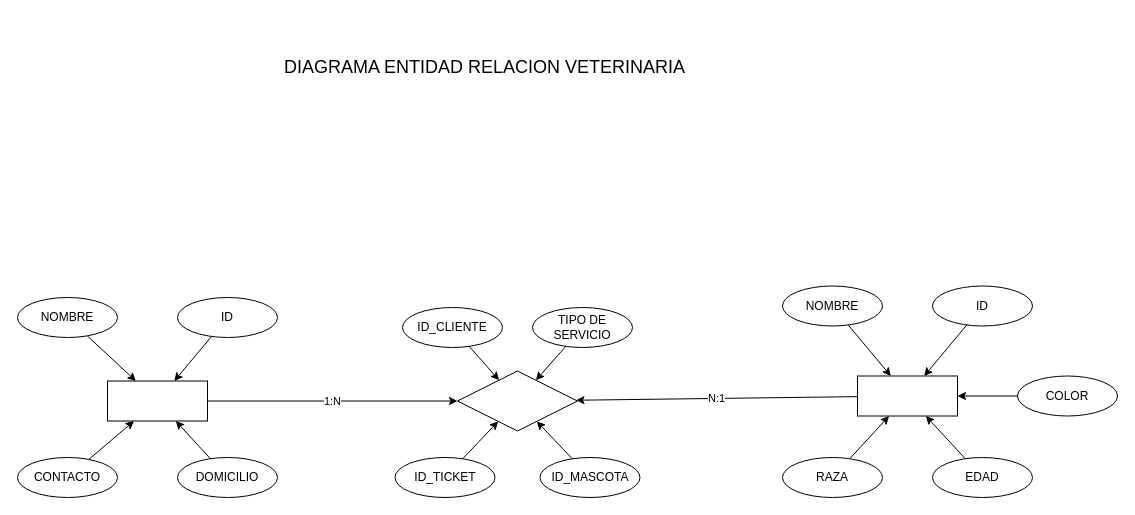
Image size: 1135x515. Some labels were removed from this diagram. Here are the shapes that lost their labels. From the top down, the box of each, then its label:
(106, 380, 208, 421): CLIENTE
(456, 370, 578, 431): CONSULTAS
(856, 375, 958, 416): MASCOTA
